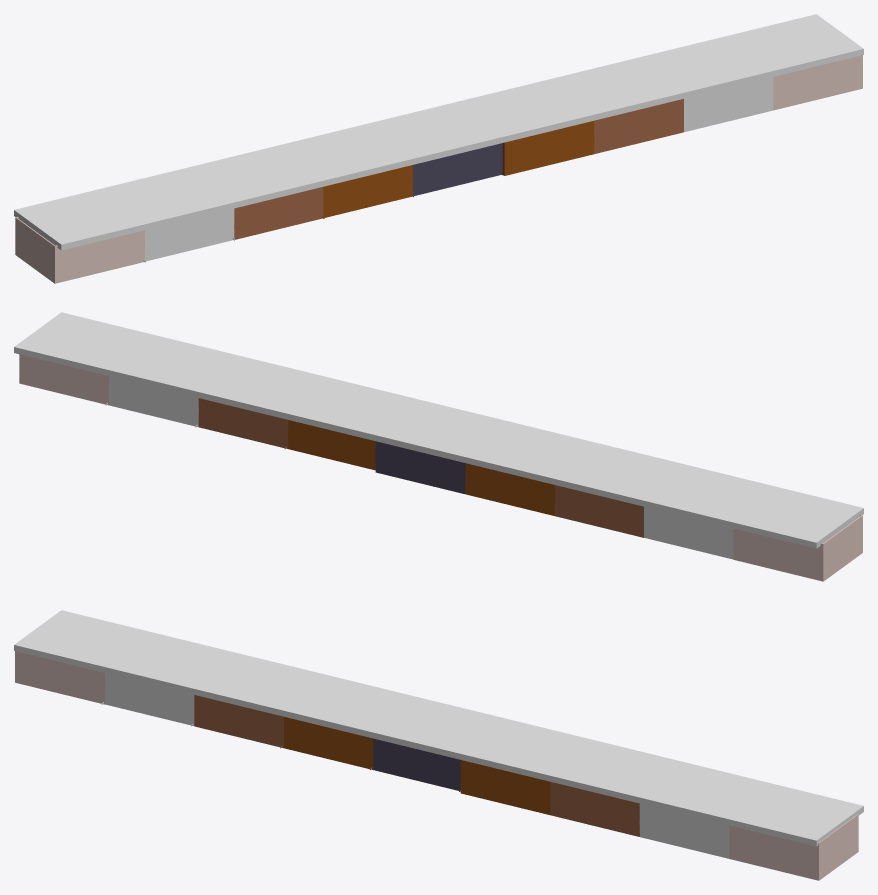
The model's file is tutorial level.fbx.
3 renders of one model, top to bottom at view 1: azimuth 30°, elevation 25°; view 2: azimuth 150°, elevation 25°; view 3: azimuth 330°, elevation 25°, orthographic.
Visible parts, largest first — view 1: roof, polySurface207, polySurface283, polySurface288, polySurface289, polySurface282, polySurface284, polySurface233, polySurface179, polySurface195; view 2: roof, polySurface207, polySurface284, polySurface233, polySurface179, polySurface195, polySurface282, polySurface289, polySurface288, polySurface283; view 3: roof, polySurface289, polySurface283, polySurface288, polySurface282, polySurface207, polySurface179, polySurface233, polySurface195, polySurface284.
Boxes of the visible parts, bbox=[...] form: roof: bbox=[14, 14, 863, 250]; polySurface207: bbox=[15, 217, 145, 283]; polySurface283: bbox=[502, 121, 594, 175]; polySurface288: bbox=[684, 77, 773, 132]; polySurface289: bbox=[773, 55, 862, 110]; polySurface282: bbox=[594, 99, 683, 153]; polySurface284: bbox=[412, 143, 503, 195]; polySurface233: bbox=[323, 165, 413, 217]; polySurface179: bbox=[234, 187, 324, 239]; polySurface195: bbox=[144, 208, 234, 261]; roof: bbox=[14, 312, 863, 548]; polySurface207: bbox=[733, 514, 862, 581]; polySurface284: bbox=[375, 441, 465, 493]; polySurface233: bbox=[465, 463, 554, 515]; polySurface179: bbox=[554, 485, 643, 537]; polySurface195: bbox=[644, 507, 733, 559]; polySurface282: bbox=[198, 398, 288, 448]; polySurface289: bbox=[19, 354, 109, 405]; polySurface288: bbox=[109, 376, 198, 427]; polySurface283: bbox=[288, 420, 375, 470]; roof: bbox=[14, 610, 863, 846]; polySurface289: bbox=[729, 814, 858, 880]; polySurface283: bbox=[460, 760, 550, 814]; polySurface288: bbox=[639, 803, 729, 858]; polySurface282: bbox=[550, 782, 639, 836]; polySurface207: bbox=[15, 651, 105, 704]; polySurface179: bbox=[194, 695, 283, 748]; polySurface233: bbox=[284, 717, 373, 769]; polySurface195: bbox=[105, 673, 194, 726]; polySurface284: bbox=[373, 738, 460, 791].
Bounding box in the file's own units: 1399 × 68.51 × 143.
